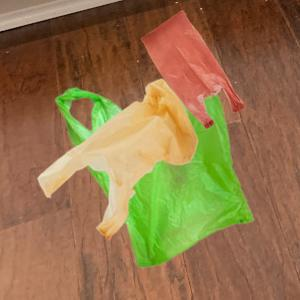plastic_bag: (54, 83, 256, 270), (33, 76, 201, 243), (138, 5, 246, 130)
